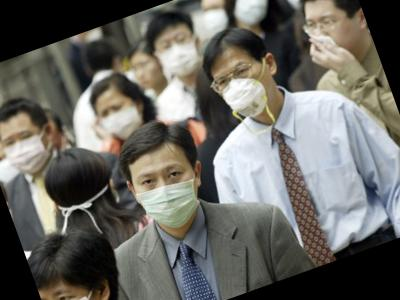with_mask: (127, 152, 211, 239), (210, 53, 282, 124), (151, 26, 207, 85), (93, 92, 150, 147), (40, 275, 114, 300)
without_mask: (129, 53, 166, 92)
